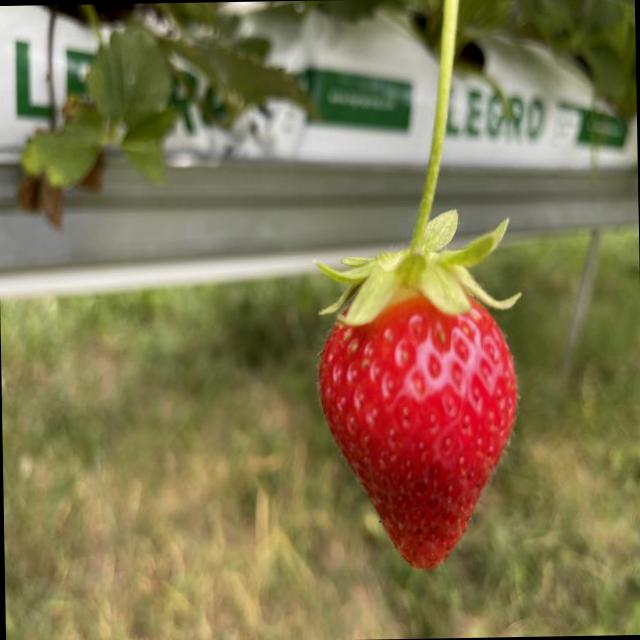stem: (319, 0, 518, 325)
strawberryR: (319, 297, 516, 567)
